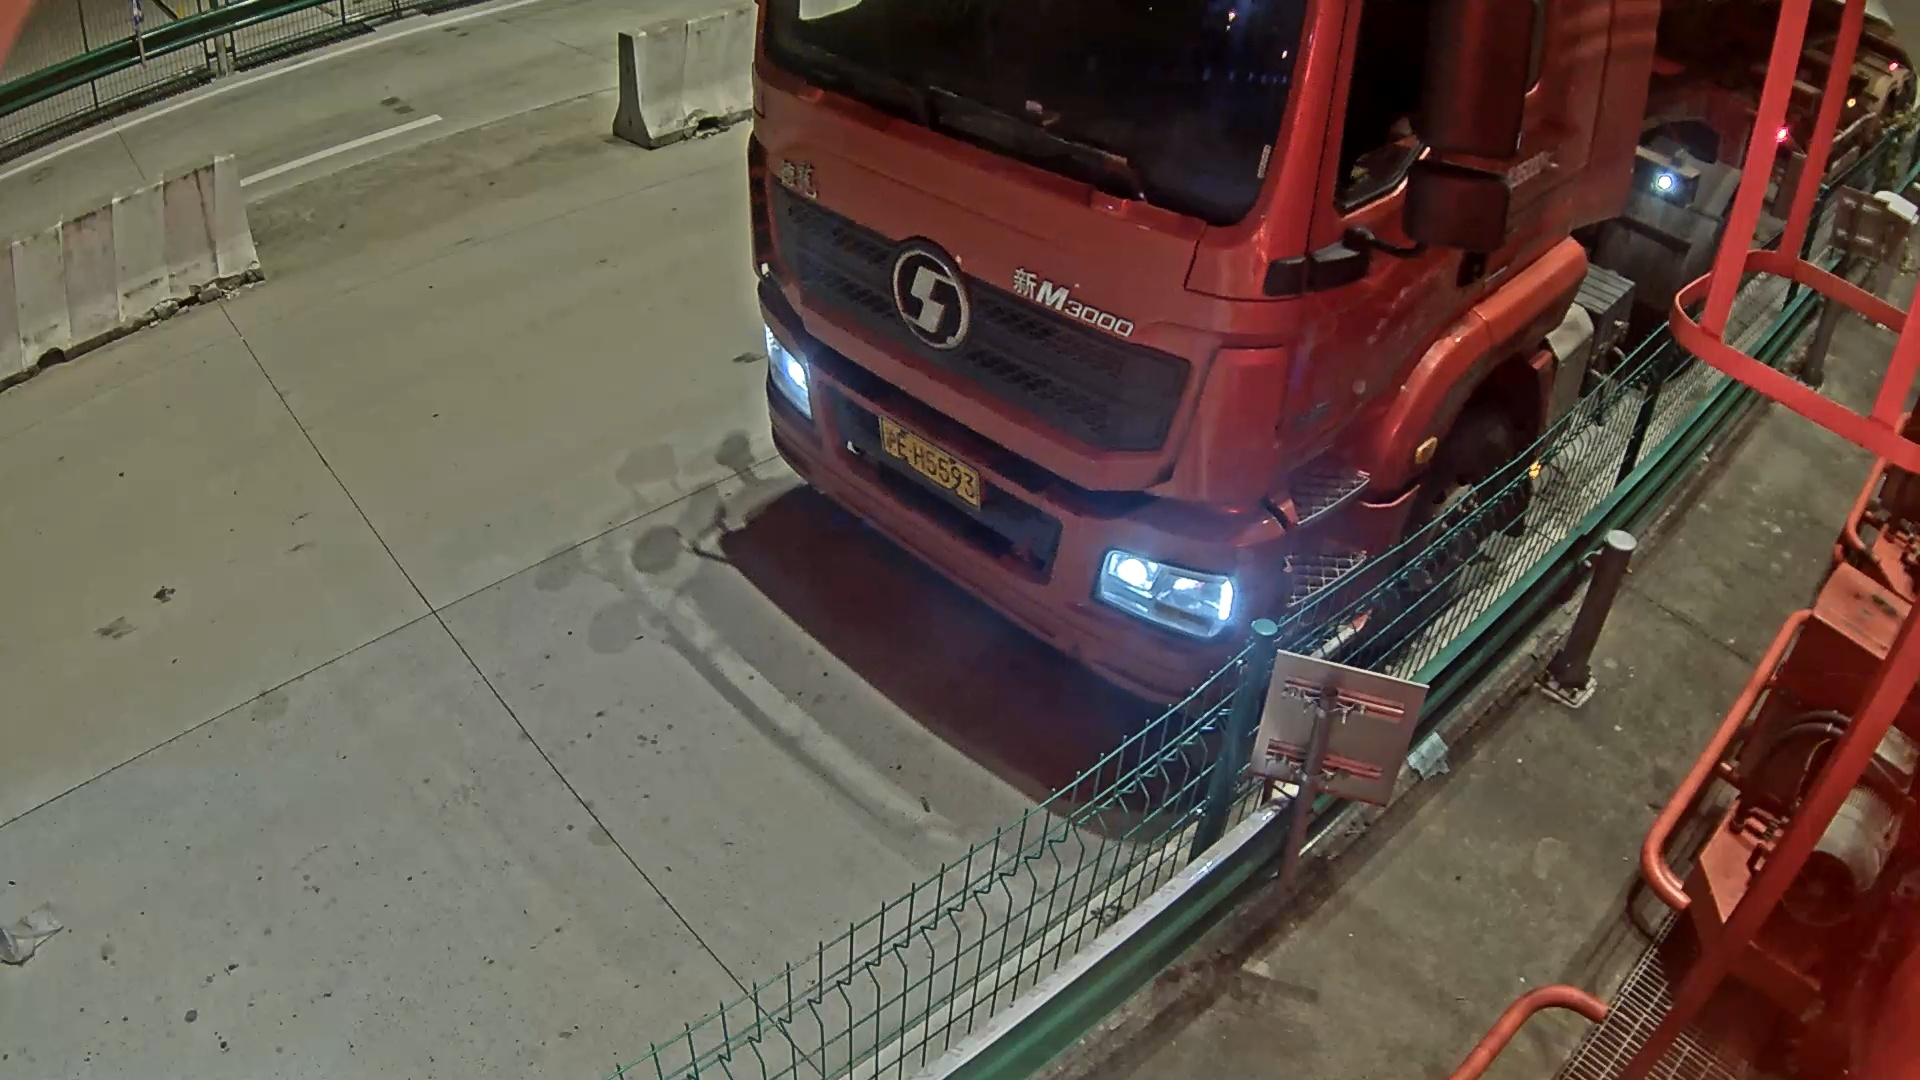head: (748, 1, 1661, 716)
plate: (881, 418, 984, 508)
